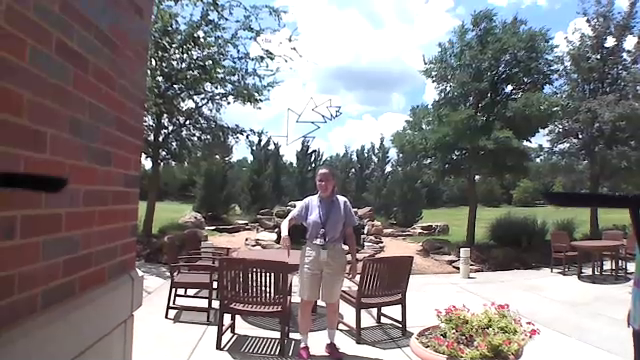down: (272, 227, 297, 262)
